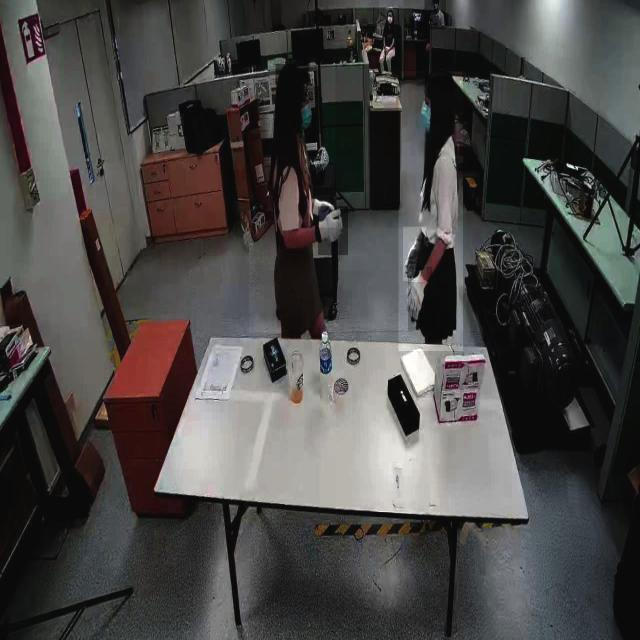face_mask: (294, 86, 321, 134), (418, 80, 440, 133), (384, 8, 398, 32), (433, 0, 442, 12)
hand_glove: (408, 266, 432, 332), (318, 206, 348, 256), (403, 226, 427, 282), (308, 188, 338, 228)
head_nohelmet: (276, 64, 310, 84), (425, 71, 455, 93), (386, 7, 394, 11)
person: (249, 54, 336, 333), (398, 71, 464, 352), (379, 0, 404, 78), (424, 0, 446, 30)
